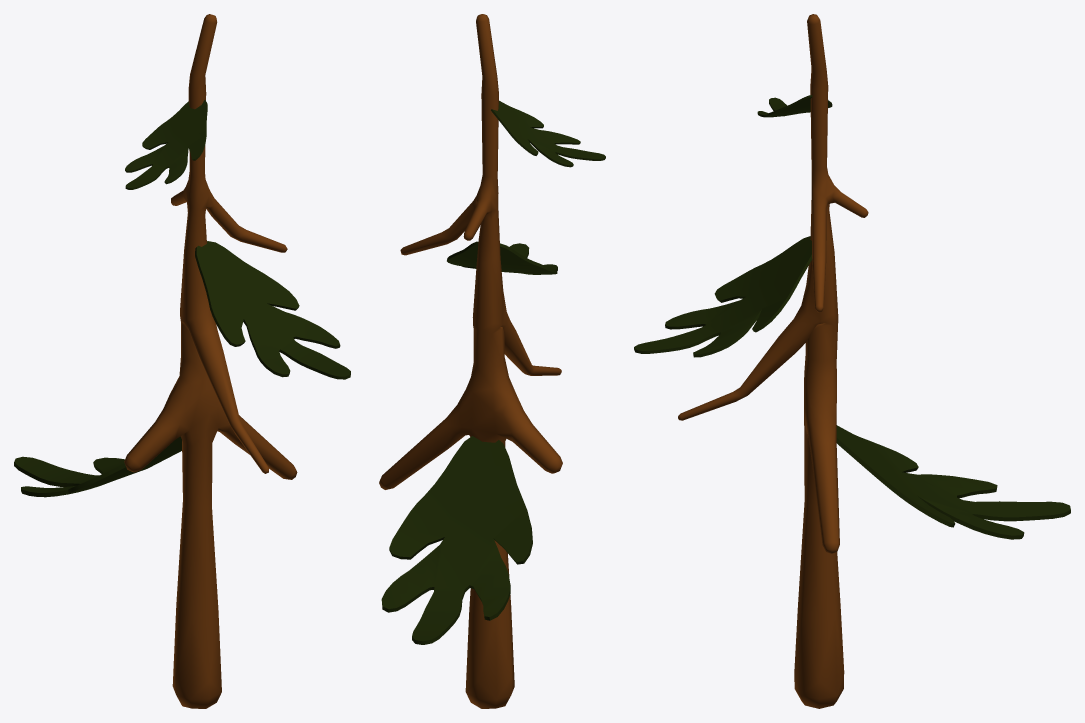
File: tree1.fbx
The picture shows the model from 3 angles, left to right: view 1: azimuth 30°, elevation 25°; view 2: azimuth 150°, elevation 25°; view 3: azimuth 270°, elevation 25°; orthographic projection.
Parts seen in each view (by area): view 1: tree1; view 2: tree1; view 3: tree1.
Part boxes in pixels (bbox=[...]): tree1: bbox=[14, 14, 350, 708]; tree1: bbox=[379, 14, 605, 708]; tree1: bbox=[634, 14, 1070, 708].
Size of the model in its own units: 40.32 by 134 by 76.46.
